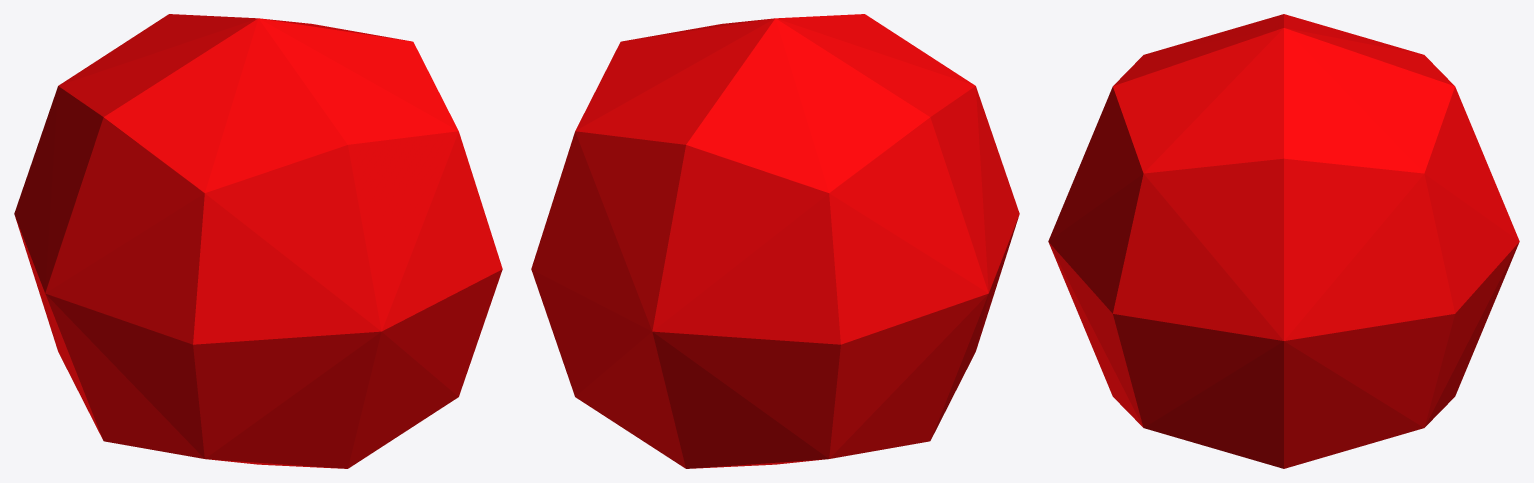
Rendered from playerBullet.obj.
3 renders of one model, left to right at view 1: azimuth 30°, elevation 25°; view 2: azimuth 150°, elevation 25°; view 3: azimuth 270°, elevation 25°, orthographic. The views are drawn at different scales.
Parts seen in each view (by area): view 1: Cube; view 2: Cube; view 3: Cube.
Boxes of the visible parts, bbox=[...] form: Cube: bbox=[14, 14, 502, 468]; Cube: bbox=[531, 14, 1019, 468]; Cube: bbox=[1048, 14, 1519, 468].
Size of the model in its own units: 1.68 by 1.68 by 1.68.
1 material, 1 textured.
